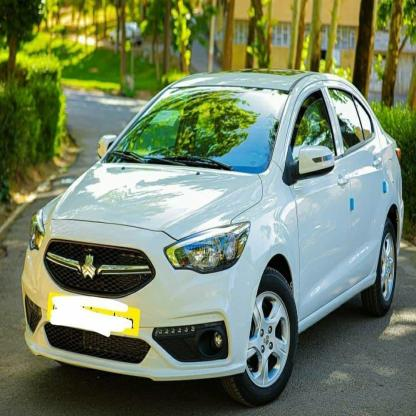Car: (28, 54, 412, 412)
